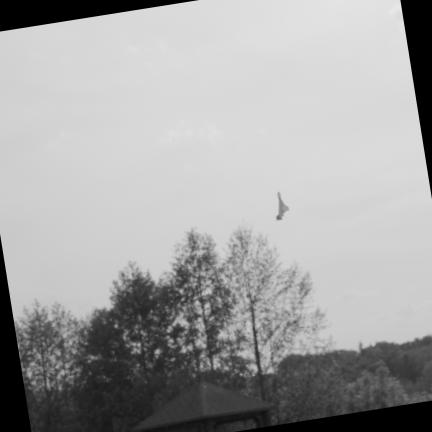Shahed: (276, 192, 288, 220)
